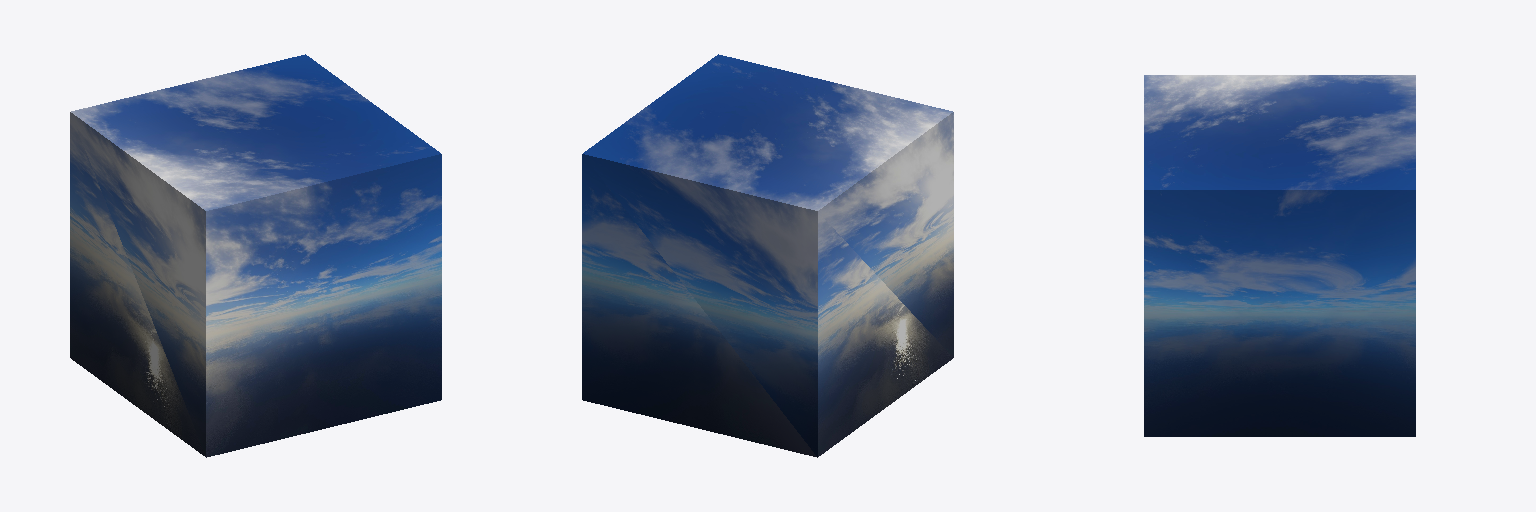
3 renders of one model, left to right at view 1: azimuth 30°, elevation 25°; view 2: azimuth 150°, elevation 25°; view 3: azimuth 270°, elevation 25°, orthographic.
Size of the model in its own units: 2 by 2 by 2.
6 materials, 6 textured.